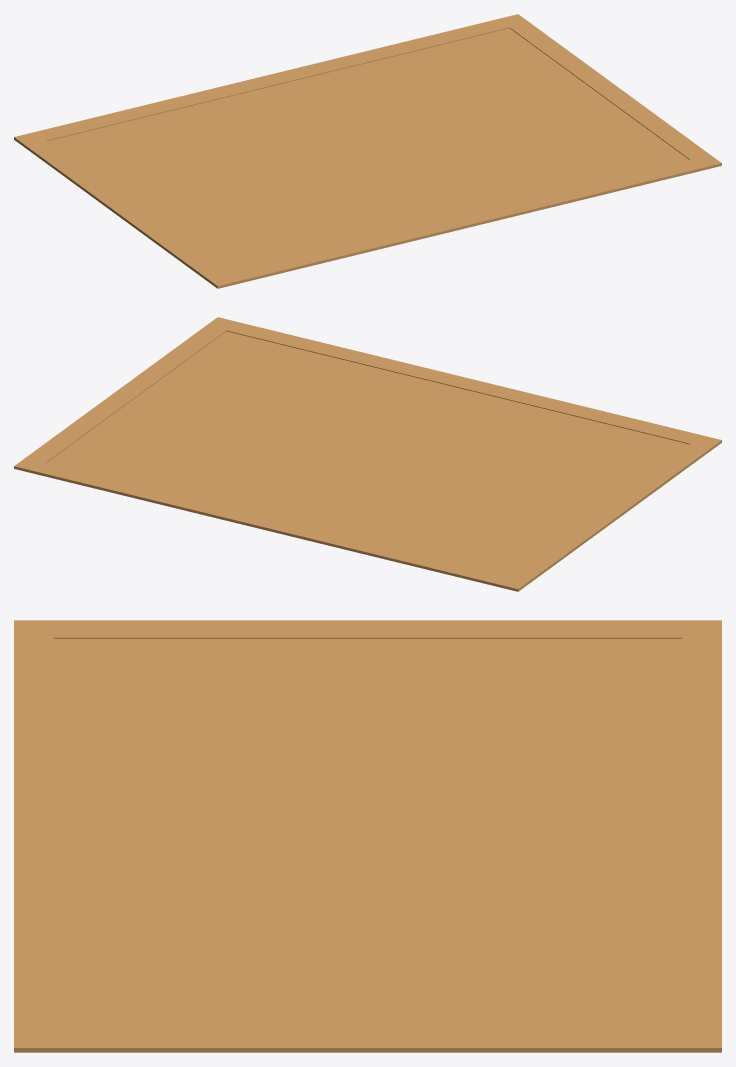
Rendered from rug.glb.
The picture shows the model from 3 angles, top to bottom: view 1: azimuth 30°, elevation 25°; view 2: azimuth 150°, elevation 25°; view 3: azimuth 270°, elevation 25°; orthographic projection. The views are drawn at different scales.
Size of the model in its own units: 2 by 0.01 by 1.4.
